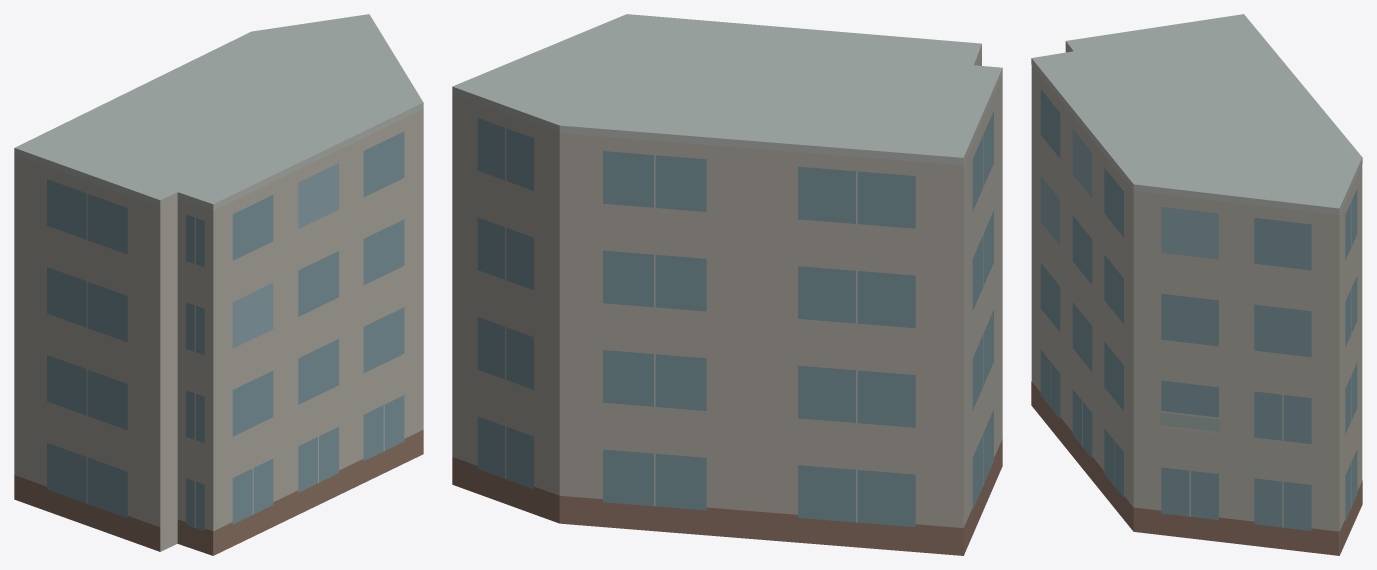
File: survey-upis-32481643.glb
3 renders of one model, left to right at view 1: azimuth 30°, elevation 25°; view 2: azimuth 150°, elevation 25°; view 3: azimuth 270°, elevation 25°, orthographic. The views are drawn at different scales.
Parts seen in each view (by area): view 1: survey-upis-32481643.tmp; view 2: survey-upis-32481643.tmp; view 3: survey-upis-32481643.tmp.
Boxes of the visible parts, left/top/right/bottom form: survey-upis-32481643.tmp: left=14, top=14, right=423, bottom=555; survey-upis-32481643.tmp: left=452, top=14, right=1002, bottom=555; survey-upis-32481643.tmp: left=1031, top=14, right=1362, bottom=555.
Size of the model in its own units: 15.5 by 12.9 by 11.15.
